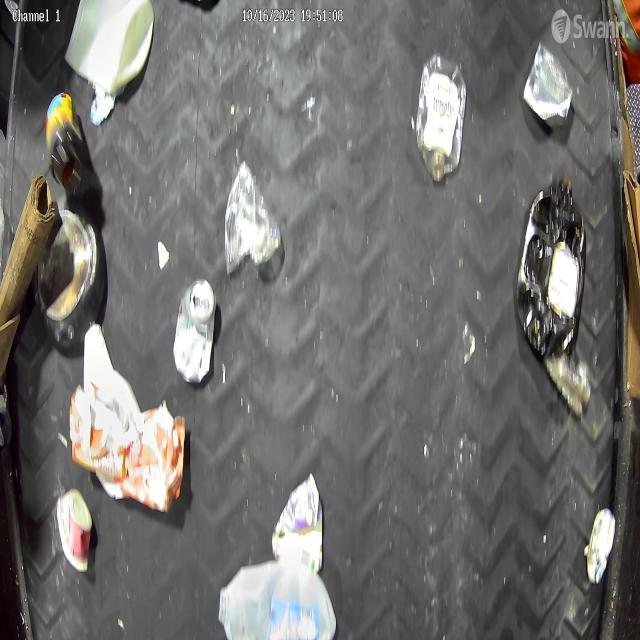can: (174, 281, 219, 394), (521, 38, 573, 126)
milk_jug: (217, 559, 341, 640)
